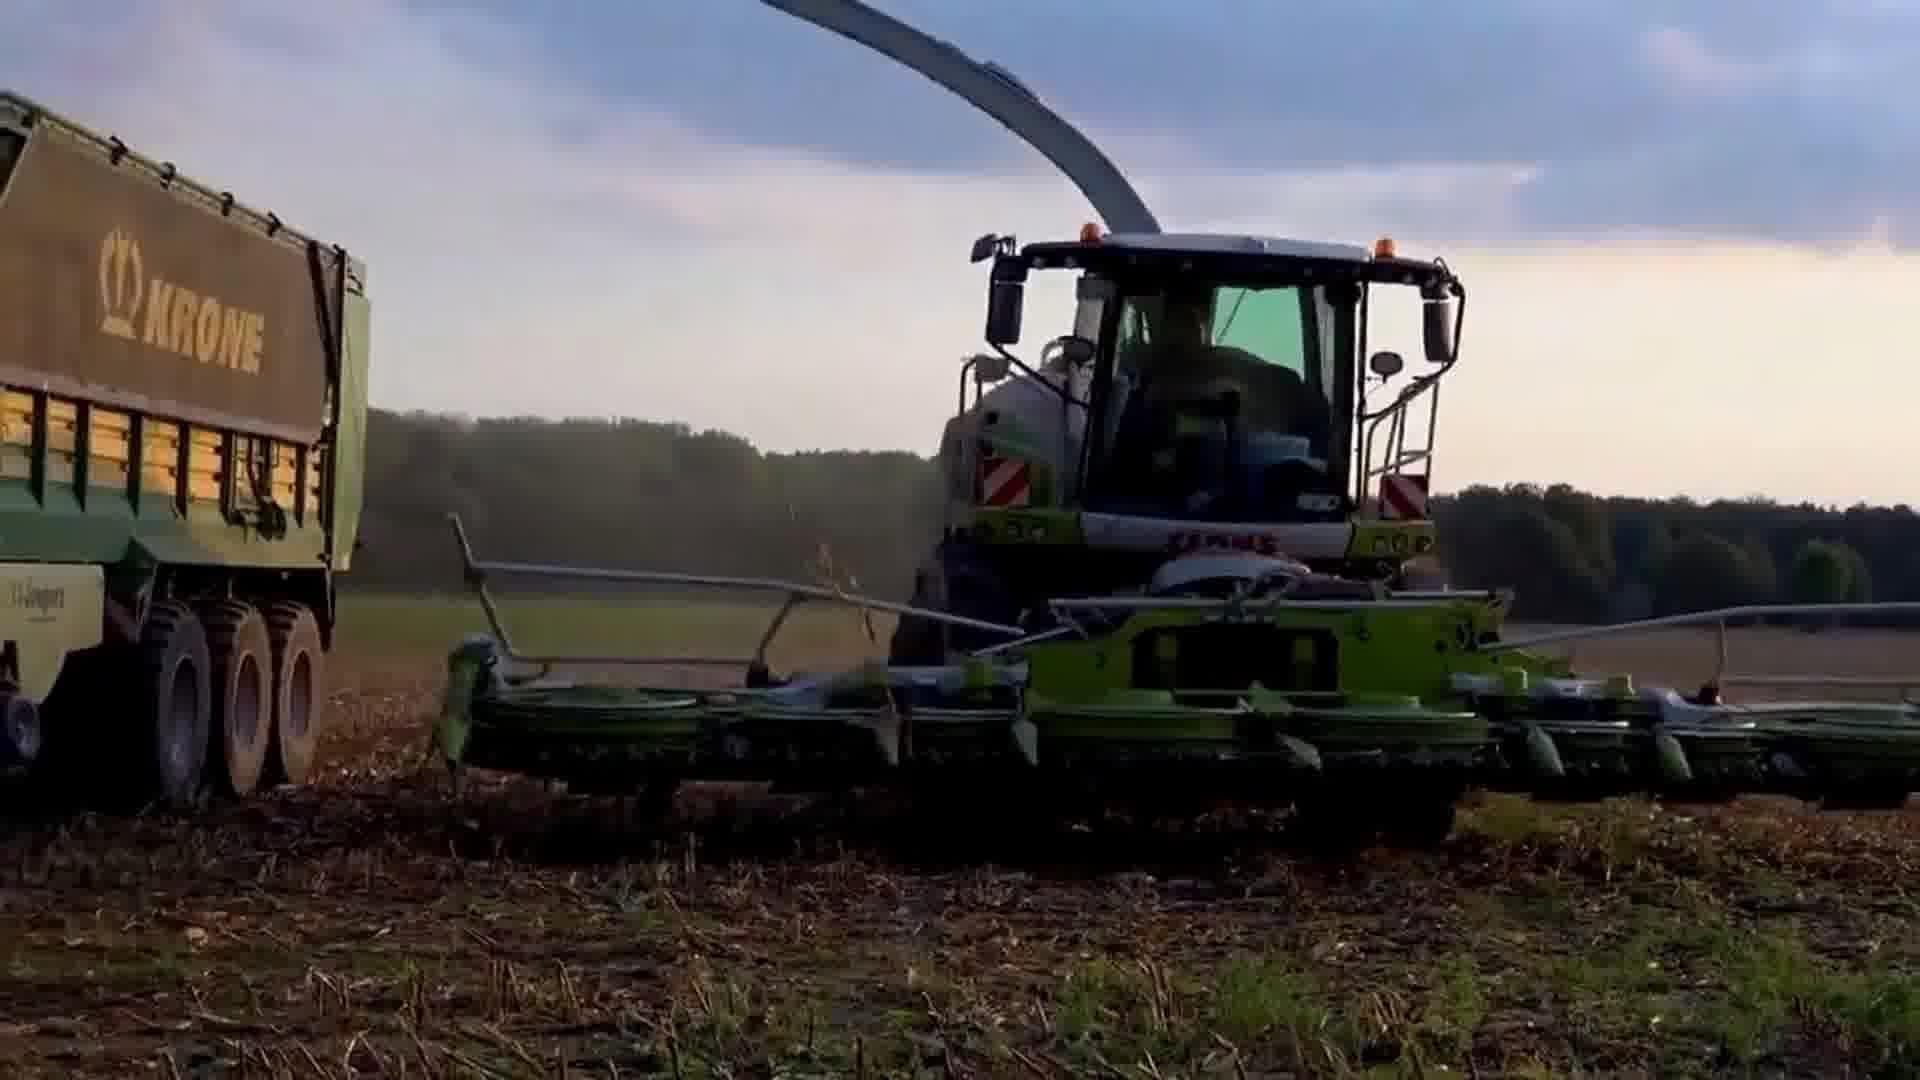combine harvester: (411, 0, 1920, 909)
trailer: (0, 76, 381, 810)
